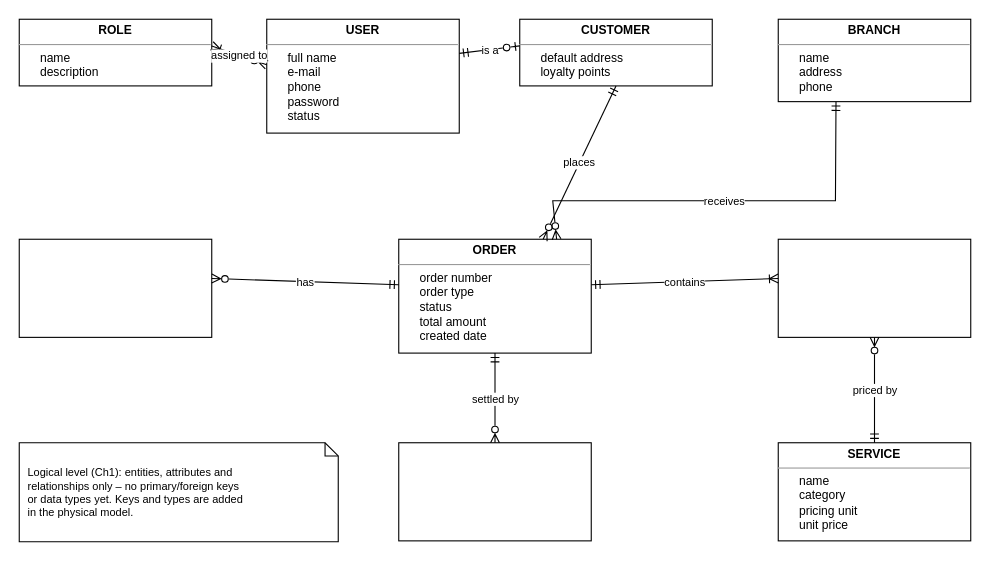
This 990x561 diagram has some shape labels left out. Each missing label, with the centre of its shape:
"ORDER ITEM quantity weight tag code subtotal" goes at point 874,287.
"PAYMENT amount method status paid date" goes at point 494,491.
"SCHEDULE type date / time address status" goes at point 115,287.
